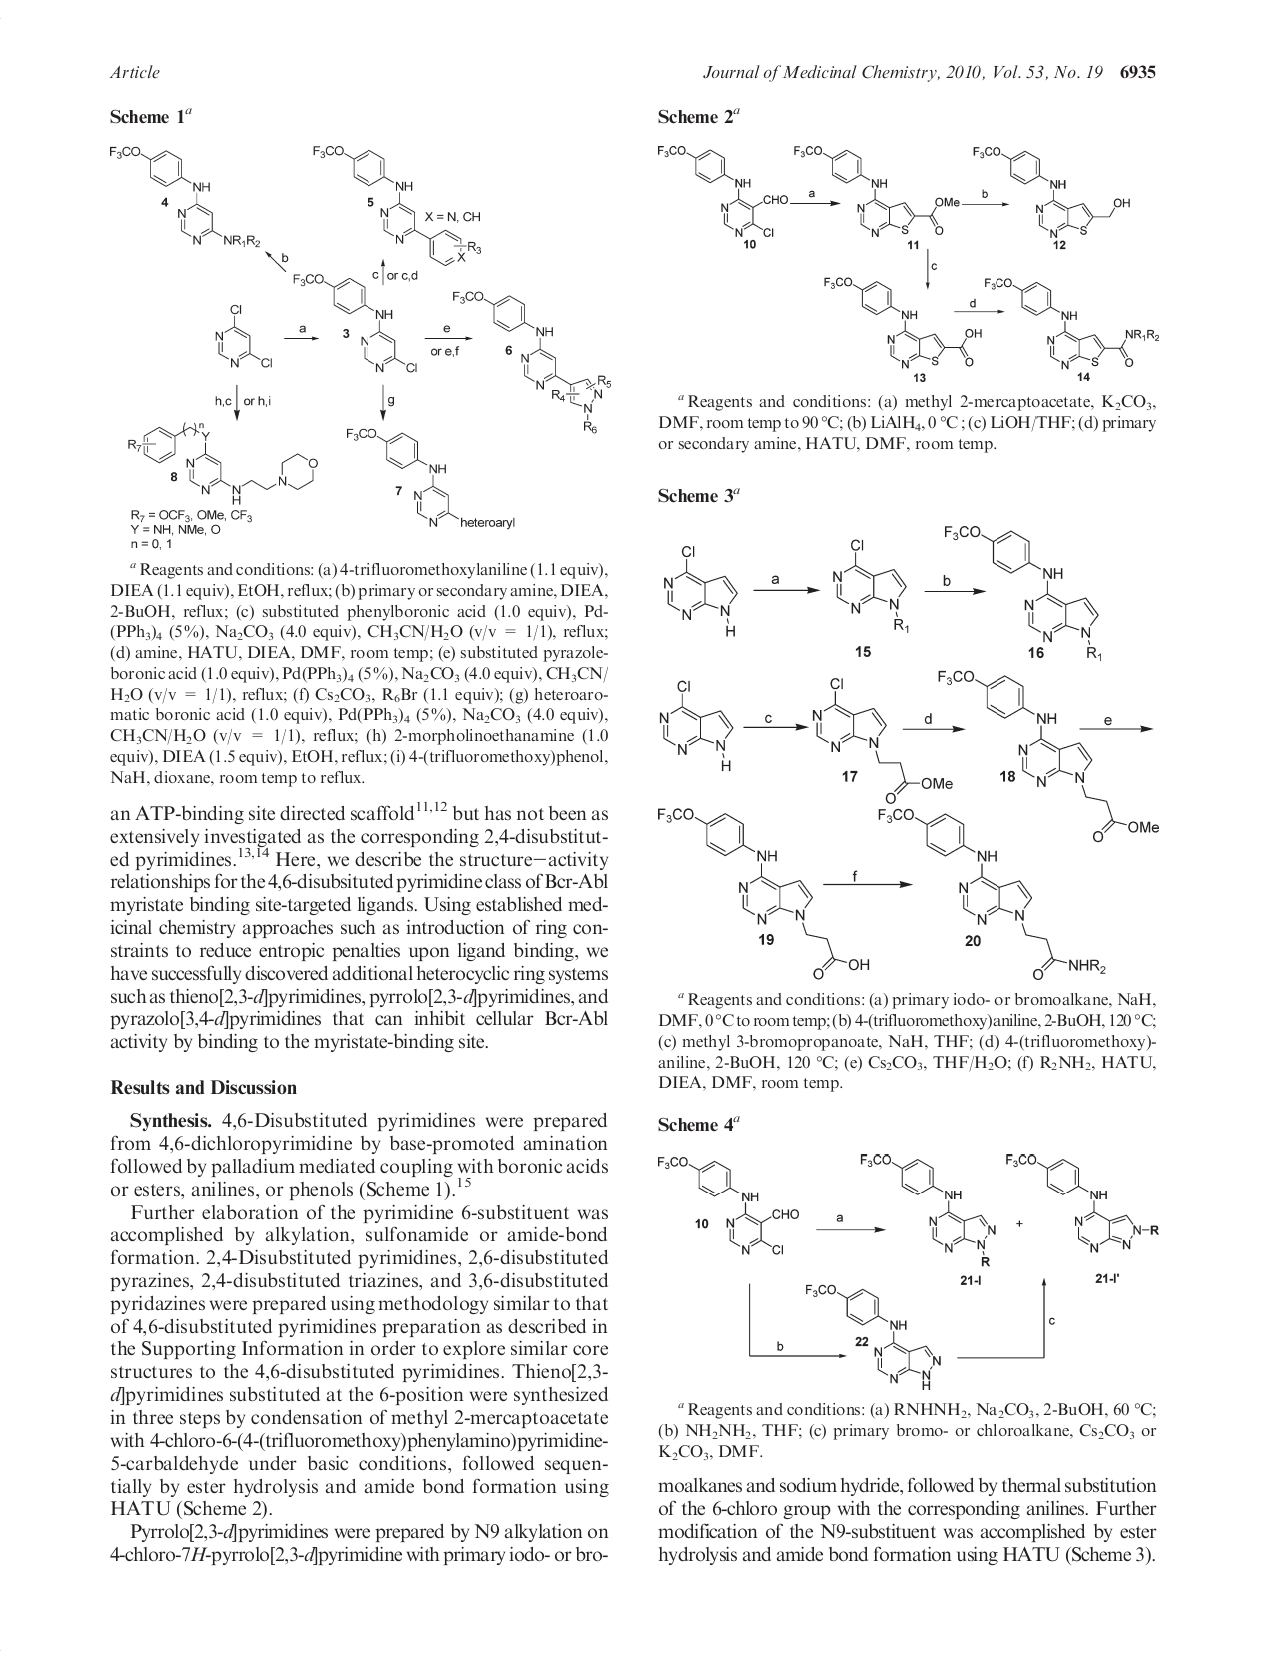exist_molecular: (876, 806, 1108, 983), (934, 668, 1162, 844), (654, 805, 871, 981), (448, 287, 613, 435), (942, 521, 1105, 664), (309, 141, 483, 269), (811, 676, 956, 807), (342, 424, 519, 531), (981, 273, 1164, 372), (126, 418, 320, 505), (105, 142, 263, 249), (1003, 1150, 1162, 1255), (967, 141, 1134, 241), (856, 1150, 997, 1269), (793, 142, 961, 239), (819, 273, 984, 370), (803, 1281, 943, 1392), (656, 1153, 801, 1255), (289, 270, 422, 375), (652, 141, 790, 239), (832, 537, 914, 636), (660, 543, 739, 642), (657, 677, 735, 773), (213, 302, 275, 370)
